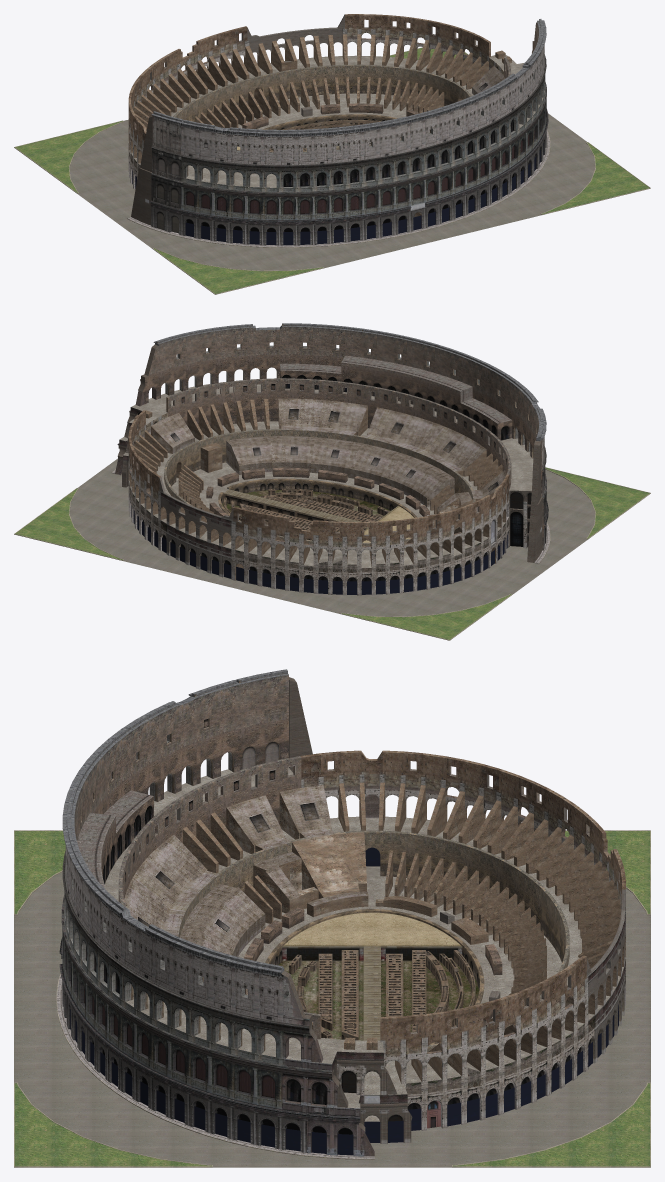
Rendered from B_ldm_RomeColosseum_T3.dae.
The picture shows the model from 3 angles, top to bottom: view 1: azimuth 30°, elevation 25°; view 2: azimuth 150°, elevation 25°; view 3: azimuth 270°, elevation 25°; orthographic projection. The views are drawn at different scales.
Parts seen in each view (by area): view 1: B_ldm_RomeColosseum_T3_L1; view 2: B_ldm_RomeColosseum_T3_L1; view 3: B_ldm_RomeColosseum_T3_L1.
Boxes of the visible parts, x1,y1,x2,y2 form: B_ldm_RomeColosseum_T3_L1: (14, 14, 650, 294); B_ldm_RomeColosseum_T3_L1: (14, 323, 650, 640); B_ldm_RomeColosseum_T3_L1: (14, 669, 650, 1167).
Size of the model in its own units: 20000 by 16000 by 5000.
Materials: 1 (1 with a texture image).
